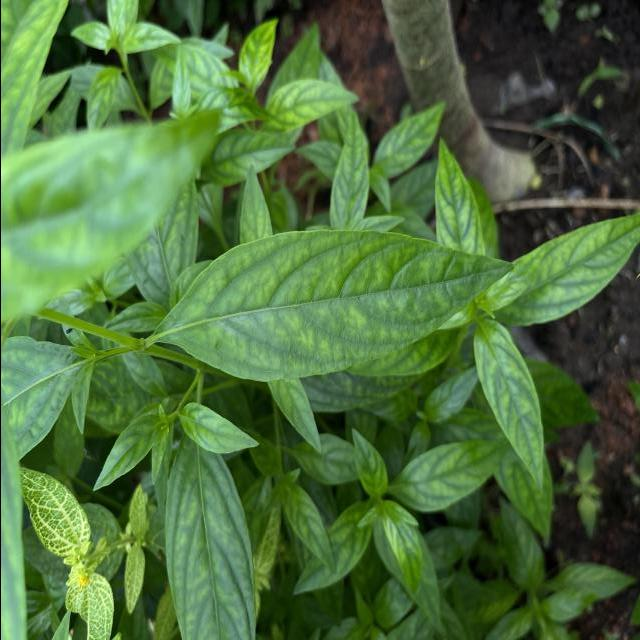Andrographis paniculata: (150, 227, 519, 386), (162, 445, 255, 640), (491, 212, 640, 322), (470, 317, 544, 497), (392, 439, 508, 514), (373, 503, 440, 632), (288, 502, 372, 600), (370, 100, 446, 179), (90, 415, 160, 494), (264, 77, 359, 133), (328, 110, 369, 232), (548, 558, 637, 608), (178, 403, 258, 454), (350, 427, 388, 497)
